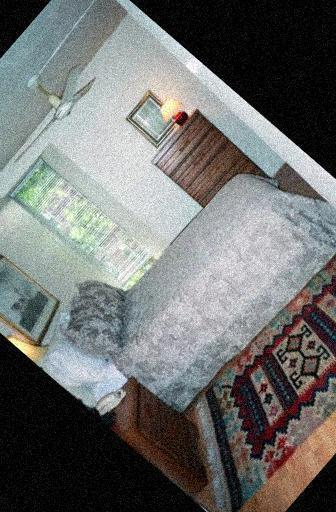Armario: (155, 110, 250, 205)
